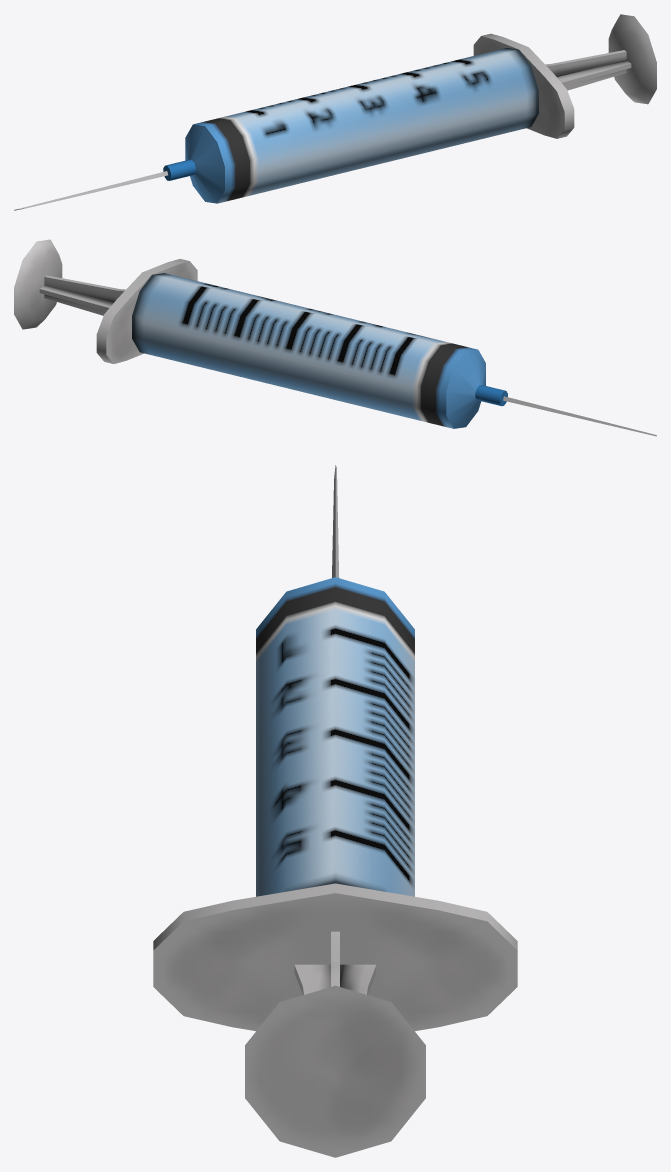
File: ITEM_syringe.fbx
3 views of the same model, one above another, from view 1: azimuth 30°, elevation 25°; view 2: azimuth 150°, elevation 25°; view 3: azimuth 270°, elevation 25° (orthographic). The views are drawn at different scales.
Visible parts, largest first — view 1: ITEM_syringe; view 2: ITEM_syringe; view 3: ITEM_syringe.
Boxes of the visible parts, x1=… form: ITEM_syringe: x1=14, y1=14, x2=656, y2=210; ITEM_syringe: x1=14, y1=239, x2=656, y2=436; ITEM_syringe: x1=153, y1=465, x2=517, y2=1157.
Bounding box in the file's own units: 0.1293 × 0.0172 × 0.0329.
